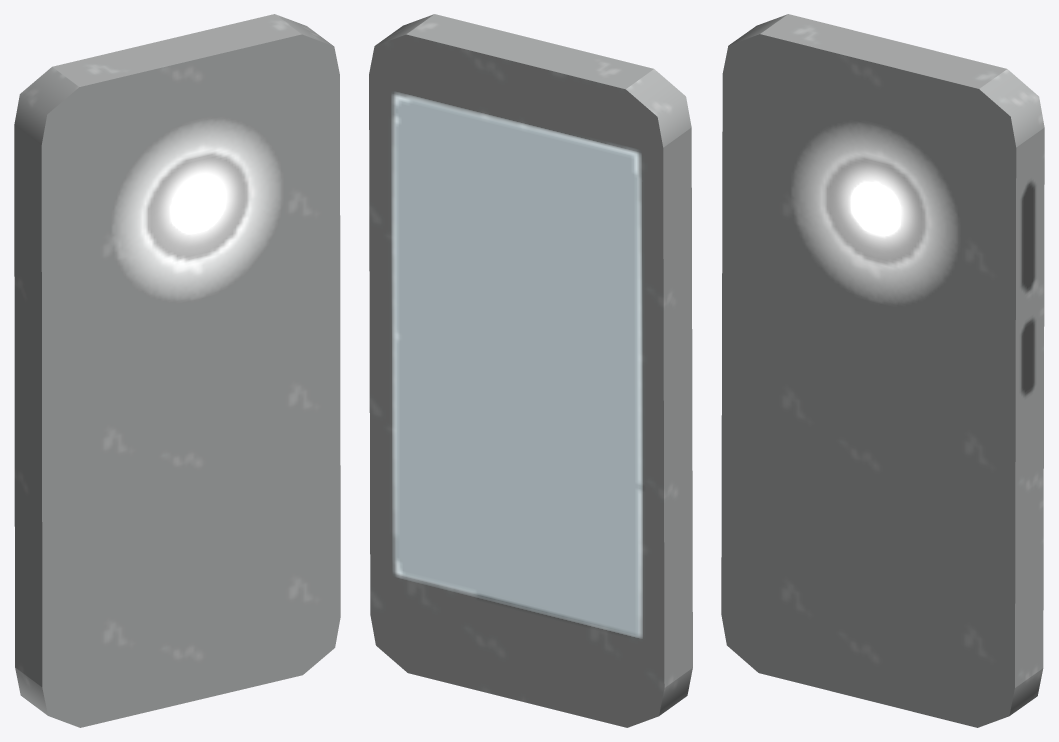
The model's file is MobilePhone.fbx.
3 renders of one model, left to right at view 1: azimuth 30°, elevation 25°; view 2: azimuth 150°, elevation 25°; view 3: azimuth 330°, elevation 25°, orthographic.
Parts seen in each view (by area): view 1: pCube3; view 2: pCube3; view 3: pCube3.
Boxes of the visible parts, x1,y1,x2,y2 form: pCube3: (14, 14, 340, 727); pCube3: (369, 14, 692, 727); pCube3: (721, 14, 1044, 727).
Bounding box in the file's own units: 9 × 18.52 × 1.62.
